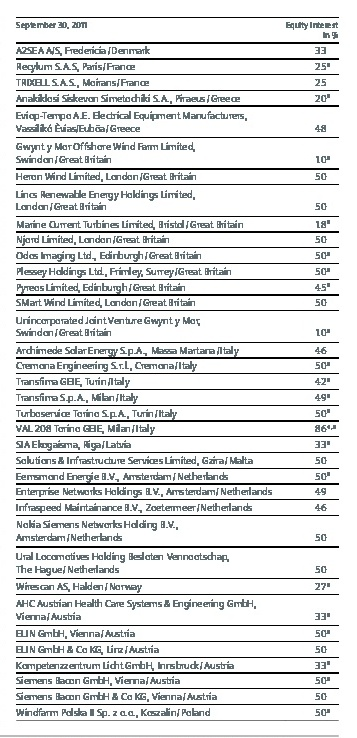table: (0, 0, 357, 738)
